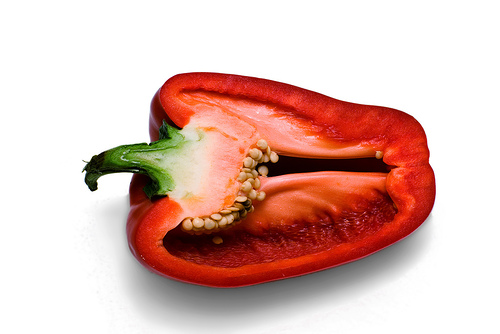capsicum: (78, 70, 439, 291)
